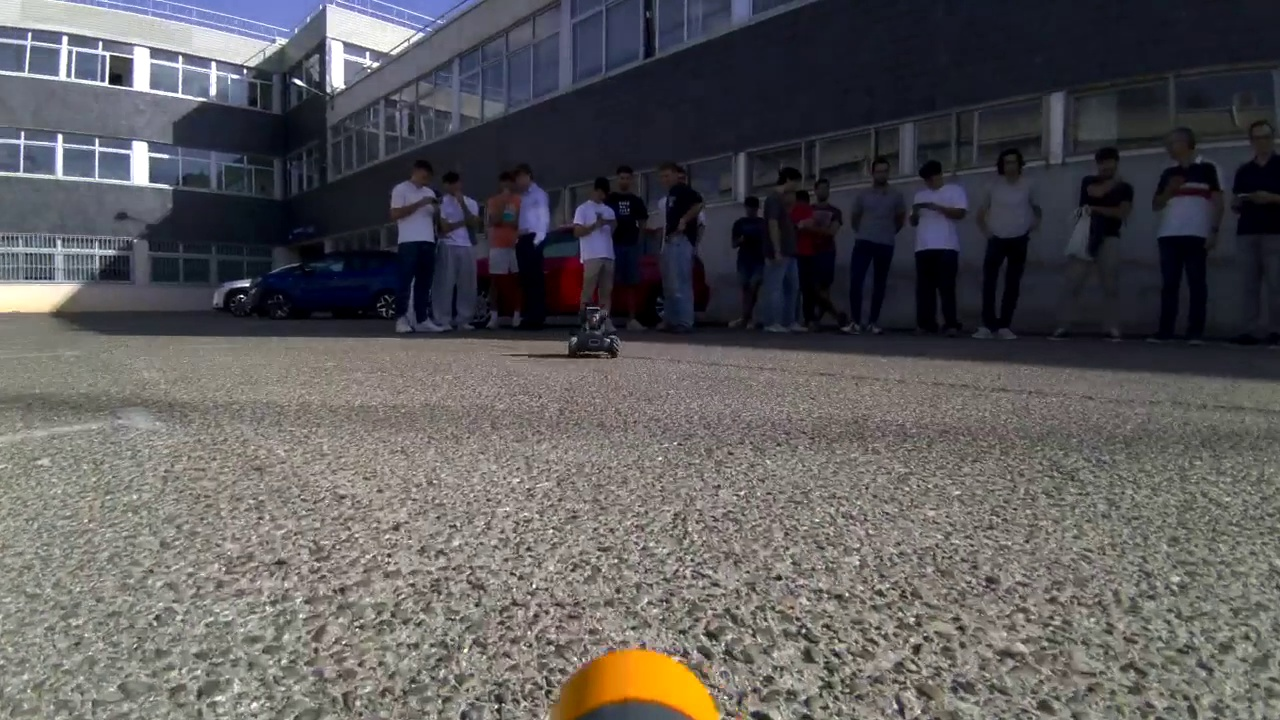robot: (556, 297, 621, 367)
